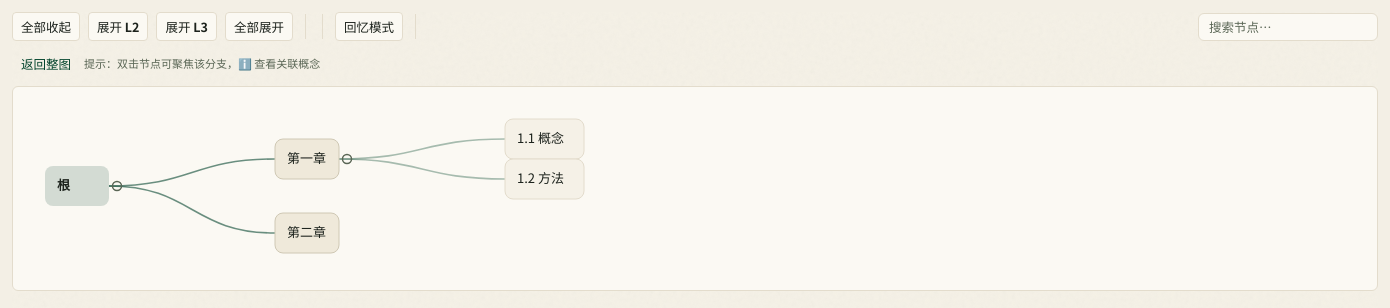
MindMap M2.3 回忆模式 › is mutually exclusive with search: entering recall clears the query and disables the input
Step 1. Type "1.1" into the search field with class "mindmap-search" → (1288, 26), box [1198,12,1378,40]
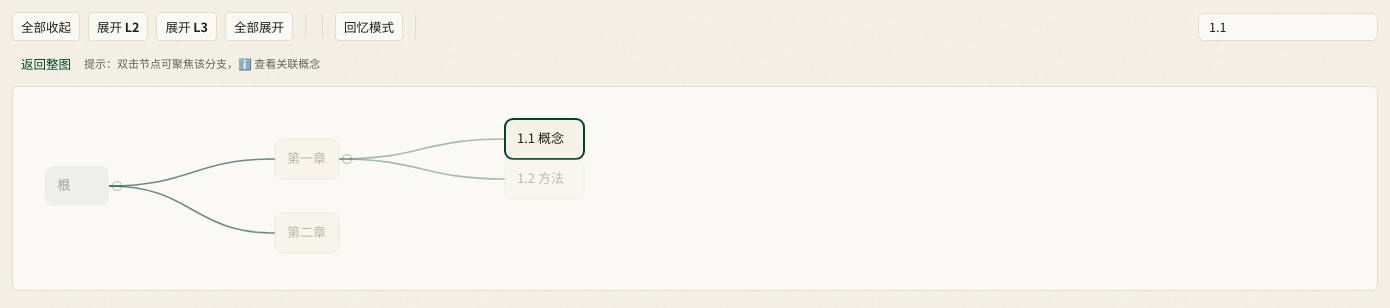
Step 2. Click the button "回忆模式" → (369, 26), box [335,12,403,41]
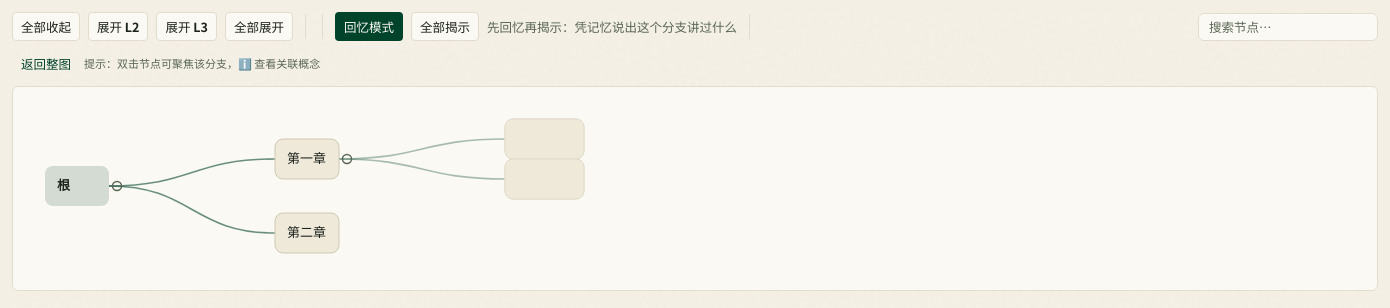
Check: the search field with class "mindmap-search" is empty, box [1198,12,1378,40]
Check: the search field with class "mindmap-search" is disabled, box [1198,12,1378,40]
